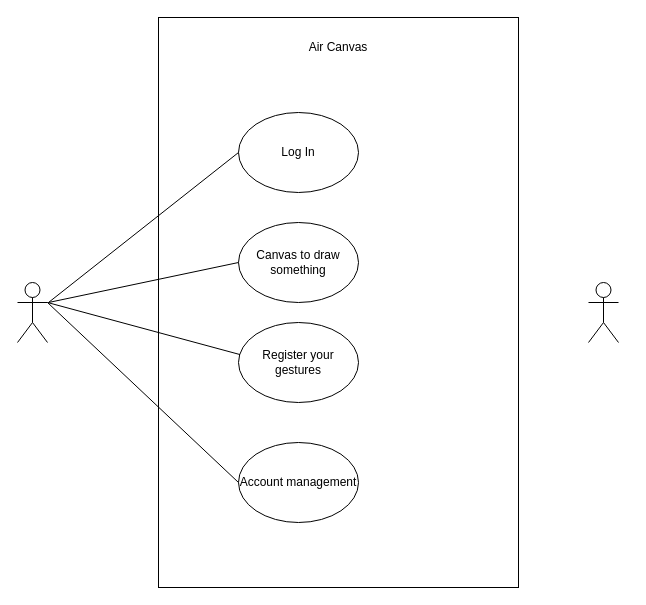
Image size: 646x605. Some labels were removed from this diagram. The centre of each missing label's shape, as x and y in pixels:
"Database" belongs at (603,312).
"User" belongs at (32,312).
